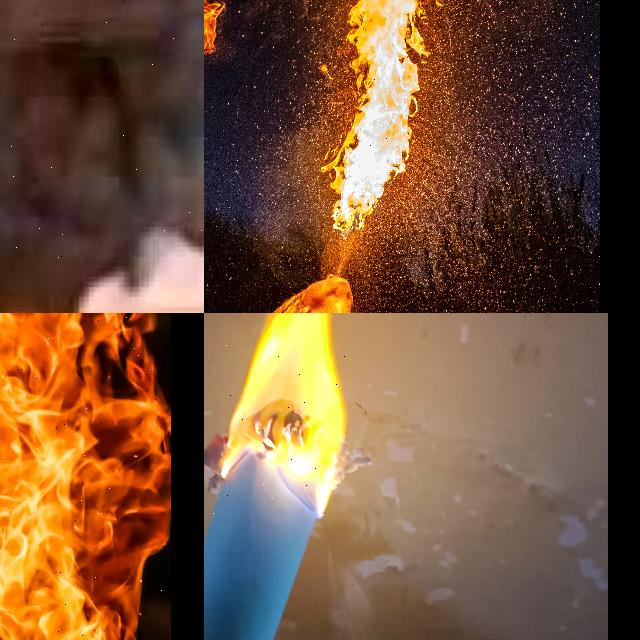fire: (204, 313, 372, 514), (204, 313, 358, 515), (329, 0, 424, 231)
fire-smoke: (0, 313, 172, 640)
smoke: (0, 0, 204, 313)
